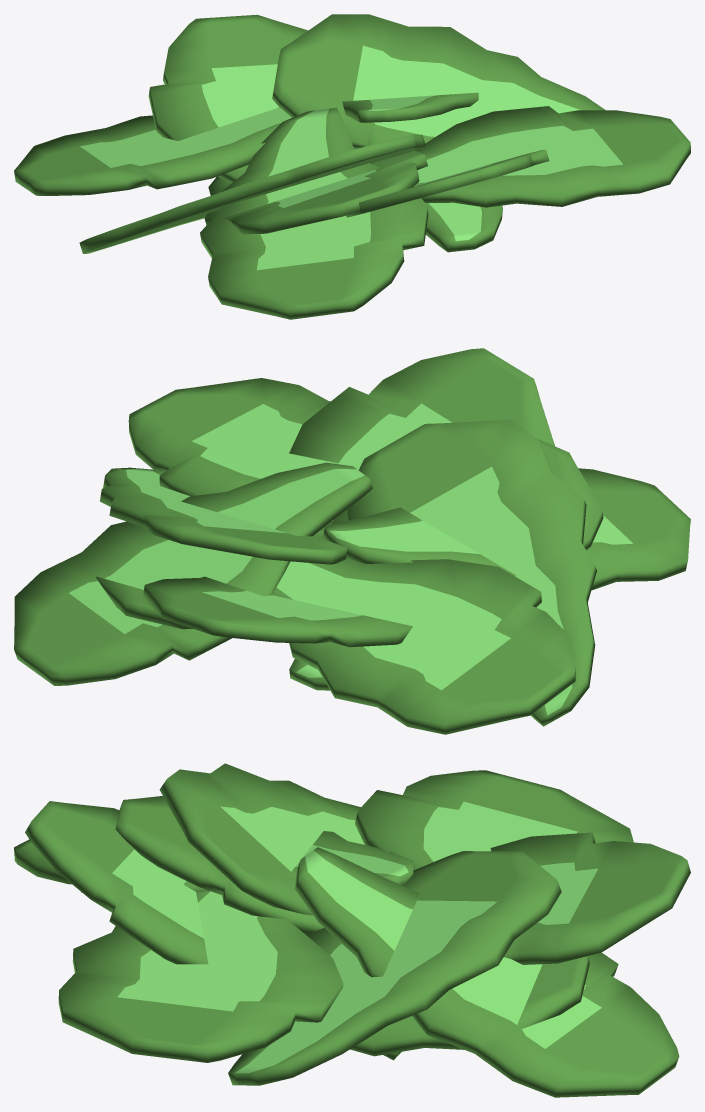
File: SaladPlain.glb
The picture shows the model from 3 angles, top to bottom: view 1: azimuth 30°, elevation 25°; view 2: azimuth 150°, elevation 25°; view 3: azimuth 270°, elevation 25°; orthographic projection. The views are drawn at different scales.
Visible parts, largest first — view 1: Cube.138; view 2: Cube.138; view 3: Cube.138.
Boxes of the visible parts, x1=… form: Cube.138: x1=14, y1=14, x2=690, y2=319; Cube.138: x1=14, y1=348, x2=690, y2=734; Cube.138: x1=14, y1=763, x2=690, y2=1097.
Bounding box in the file's own units: 0.6298 × 0.1853 × 0.5867.
